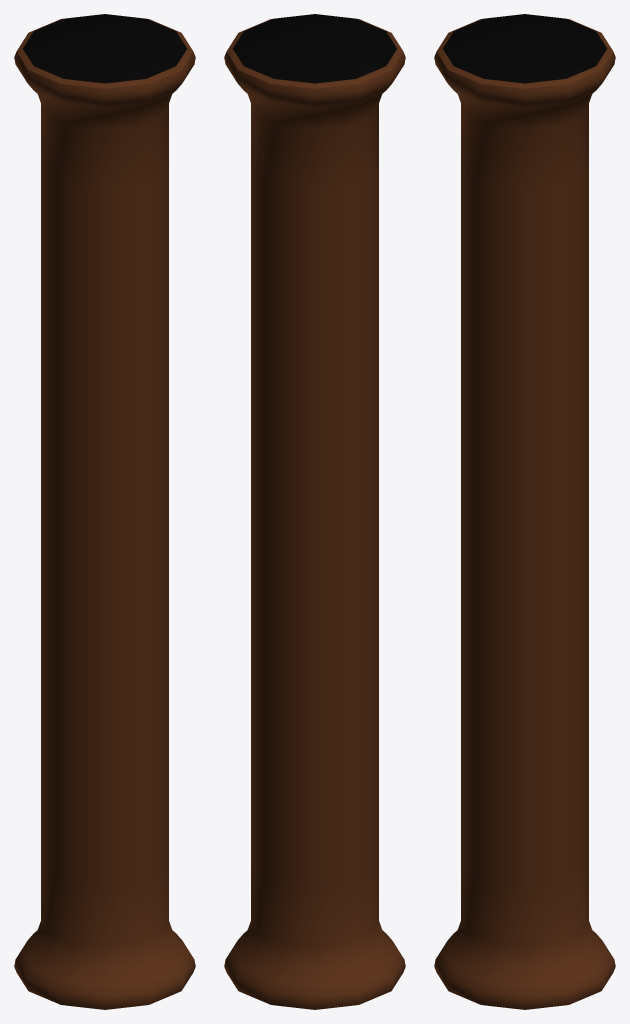
The model's file is Pipe_4m.fbx.
3 views of the same model, side by side, from view 1: azimuth 30°, elevation 25°; view 2: azimuth 150°, elevation 25°; view 3: azimuth 270°, elevation 25° (orthographic).
Parts seen in each view (by area): view 1: Pipe_4m; view 2: Pipe_4m; view 3: Pipe_4m.
Boxes of the visible parts, left/top/right/bottom form: Pipe_4m: left=14, top=14, right=195, bottom=1009; Pipe_4m: left=224, top=14, right=405, bottom=1009; Pipe_4m: left=434, top=14, right=615, bottom=1009.
Bounding box in the file's own units: 71.06 × 400 × 71.06.
